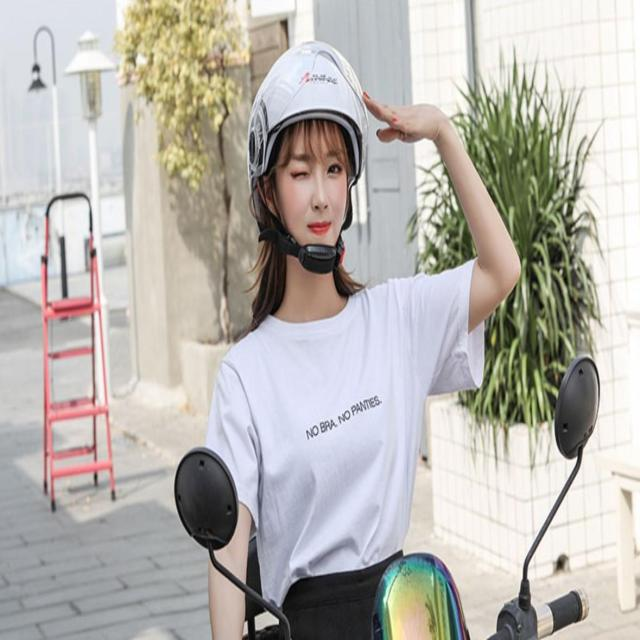Helmet: (248, 37, 370, 276)
